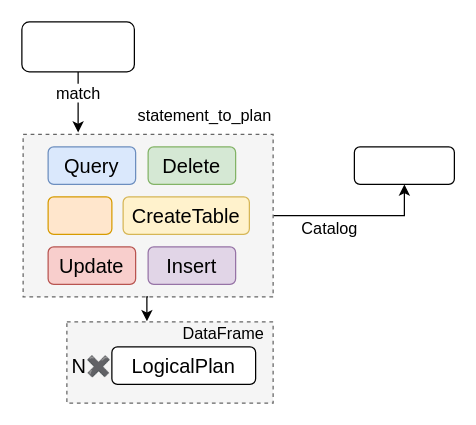
Image size: 476x425. Some labels were removed from this diagram. Here are the shapes that lost their labels. From the top down, the centre of each, then its label:
(77,46): statement
(403,165): TableRef
(79,215): Drop
